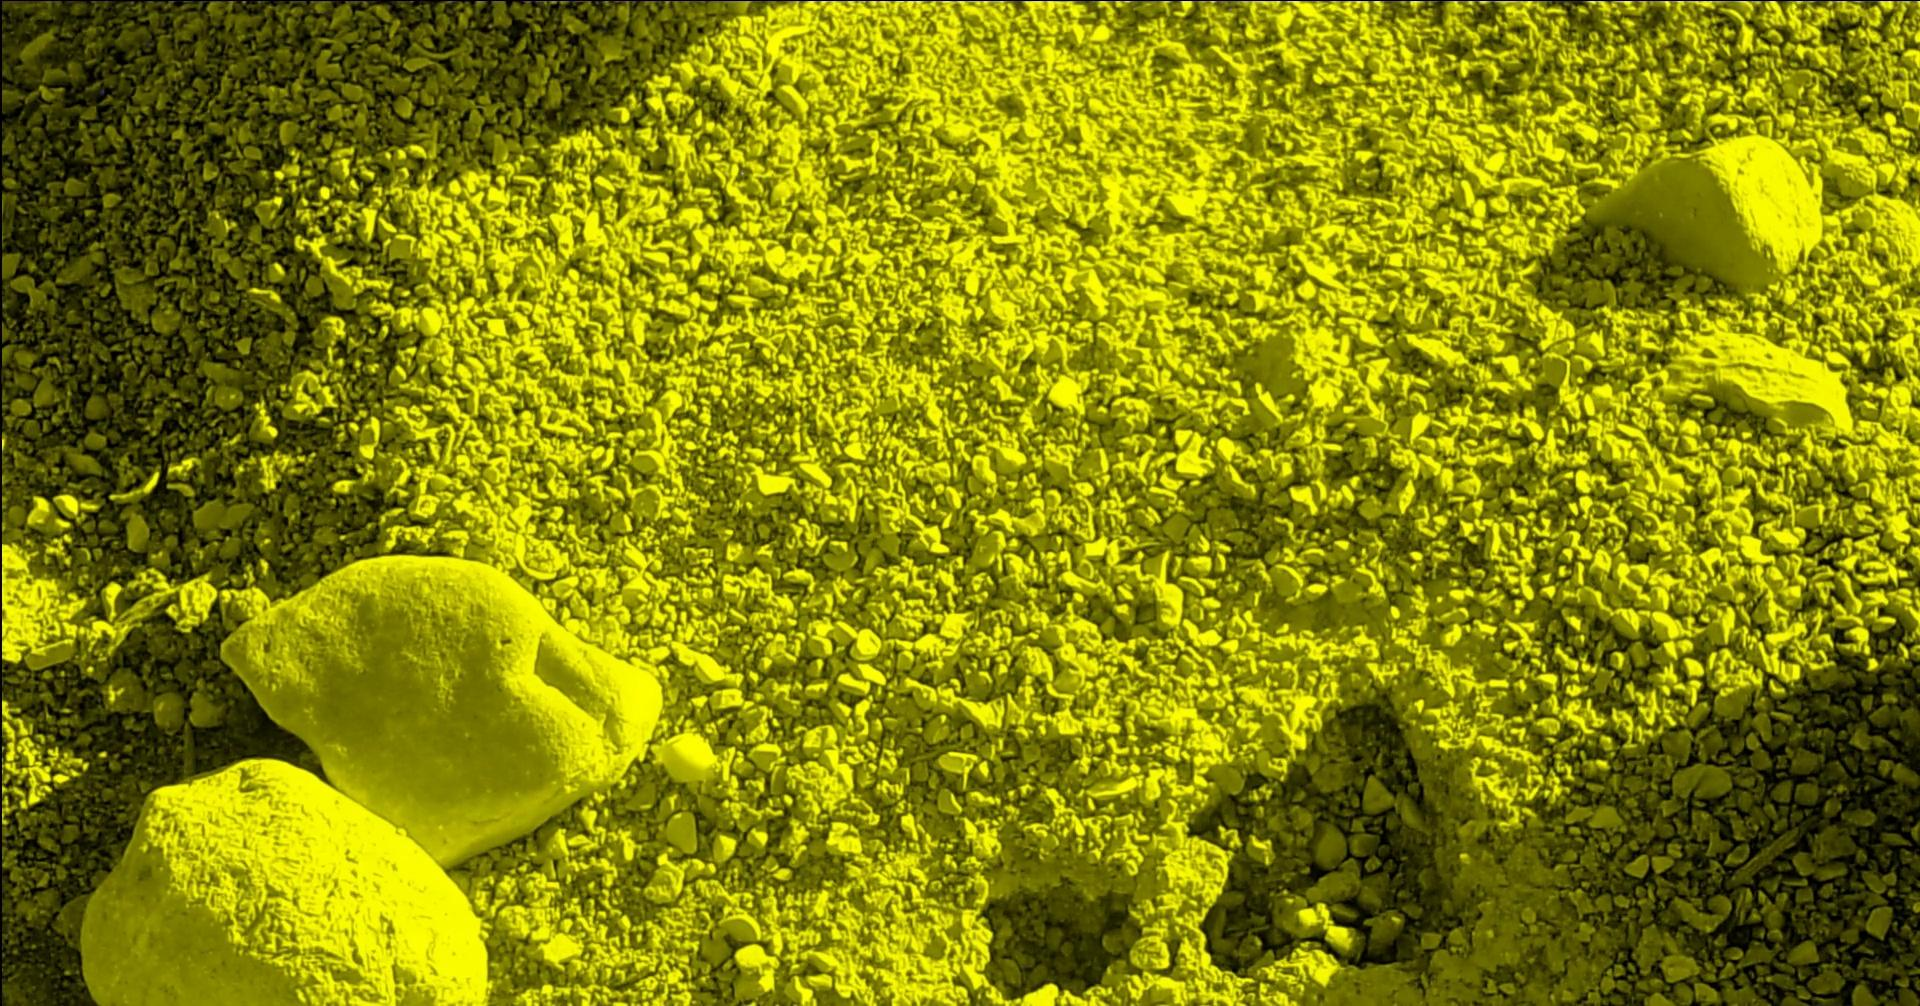ant: (640, 0, 712, 3)
